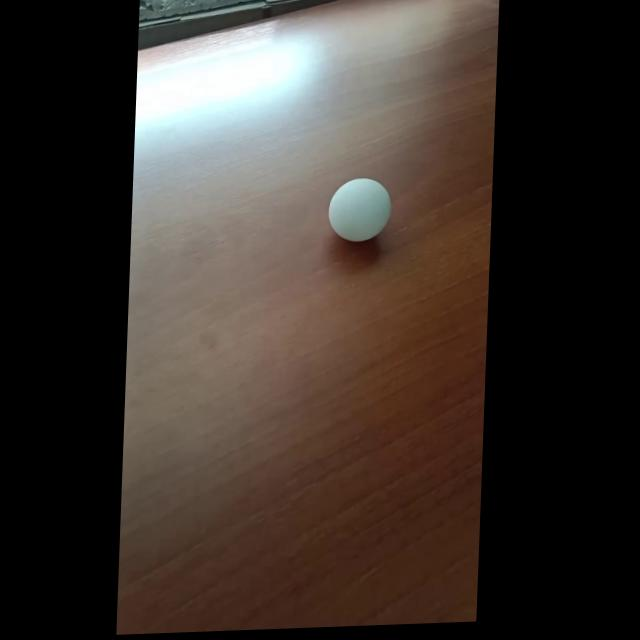white ball: (327, 176, 393, 243)
